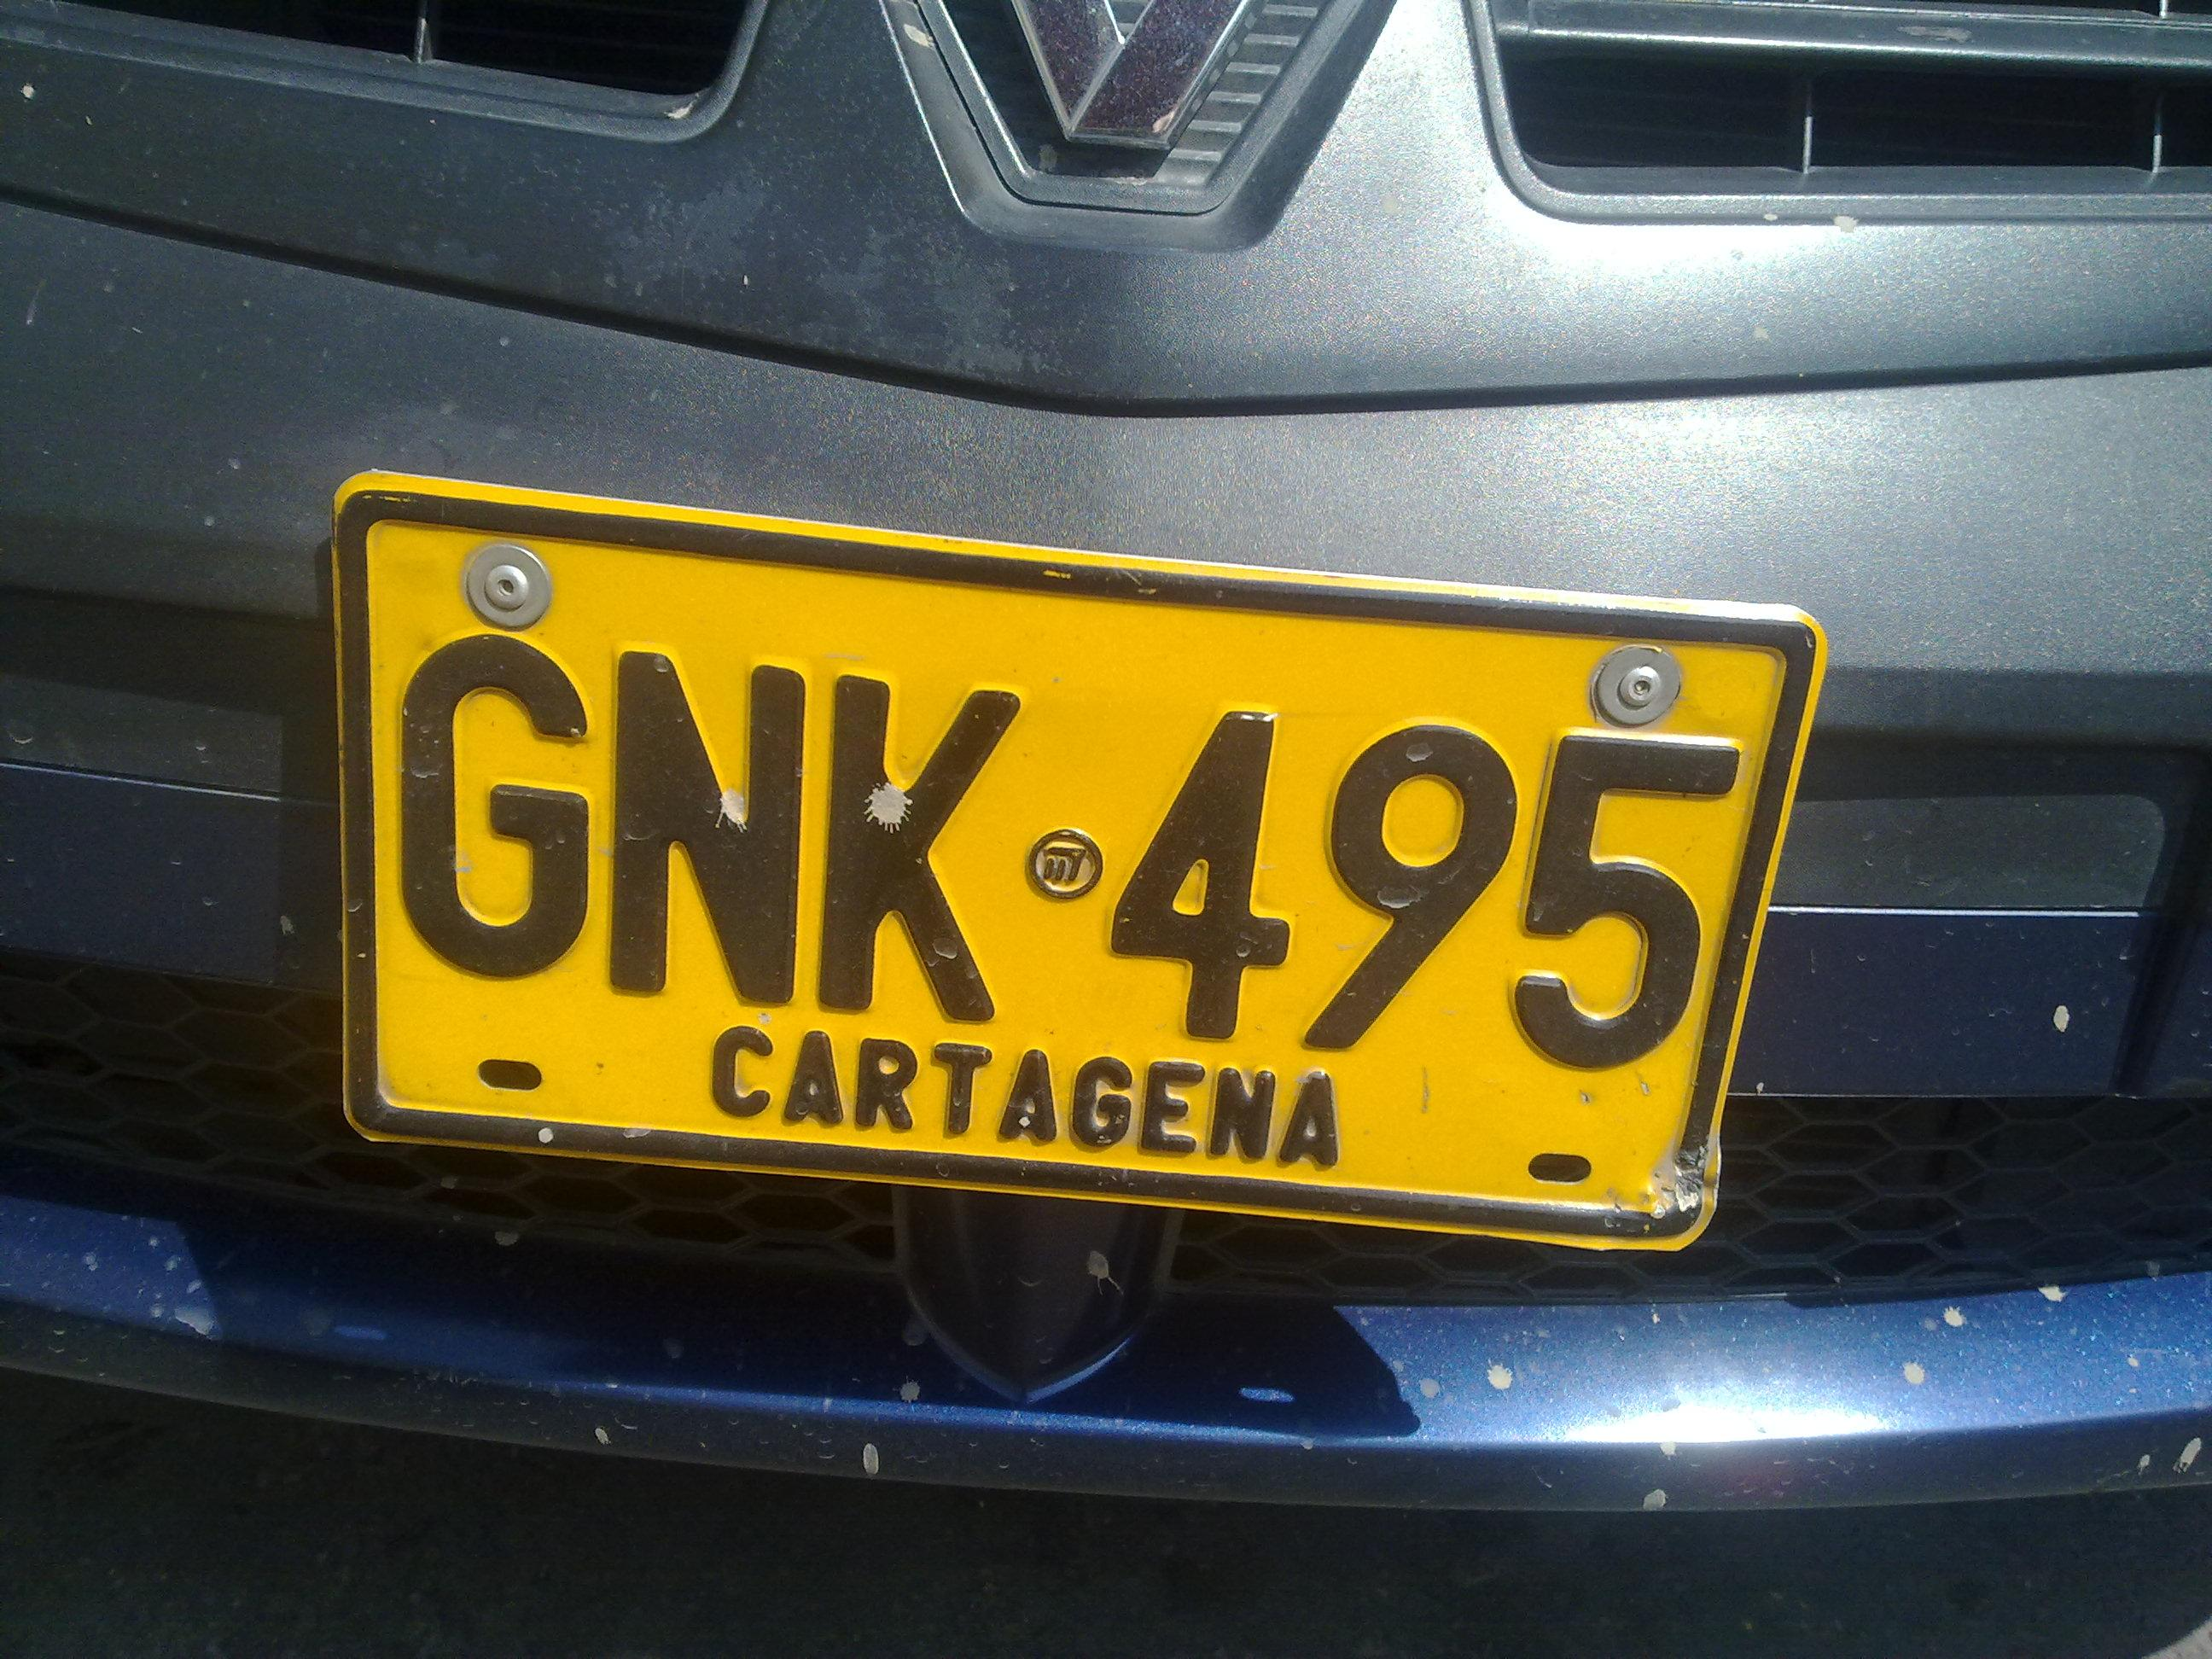placas: (323, 455, 1834, 1263)
